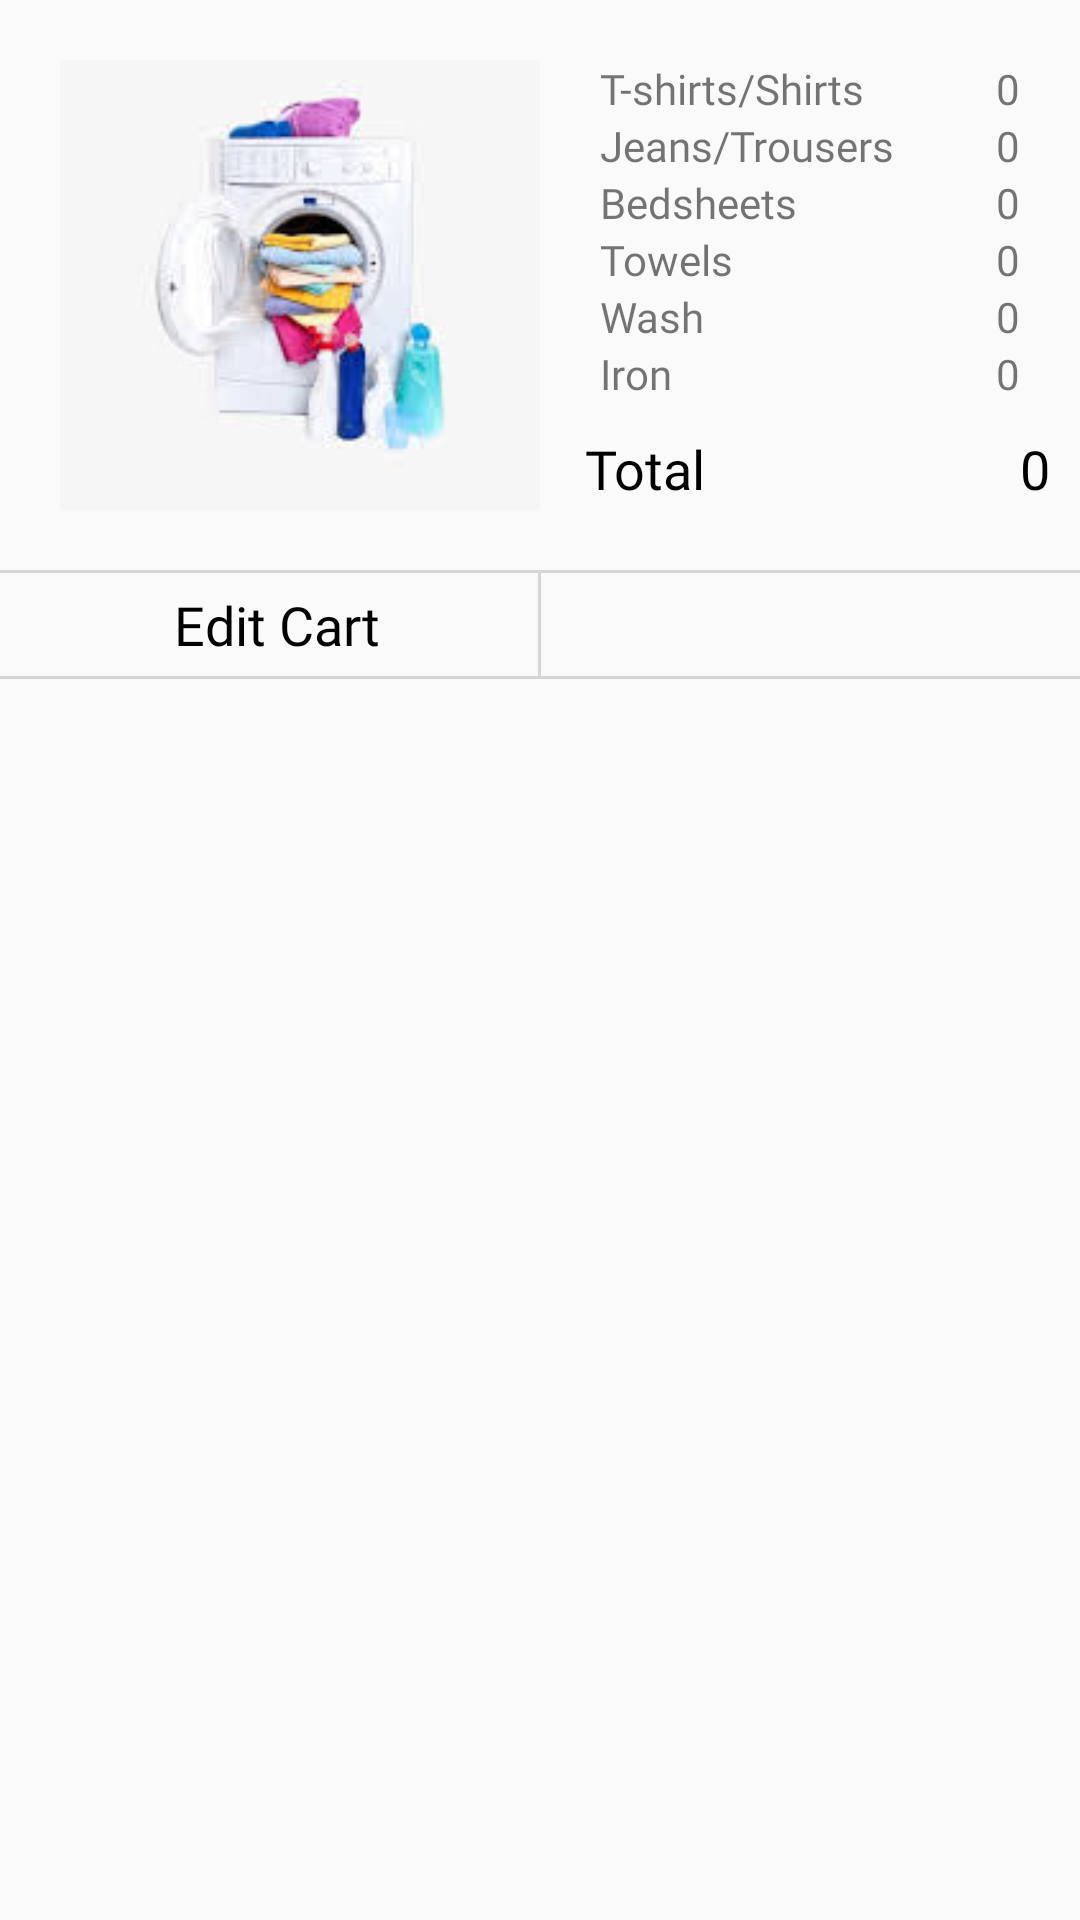

Screen size 1080x1920. Icon name, then its center in pixels as (x,y):
clothes: (300,273)
